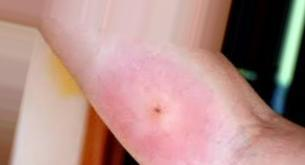Spider: (109, 68, 208, 159)
